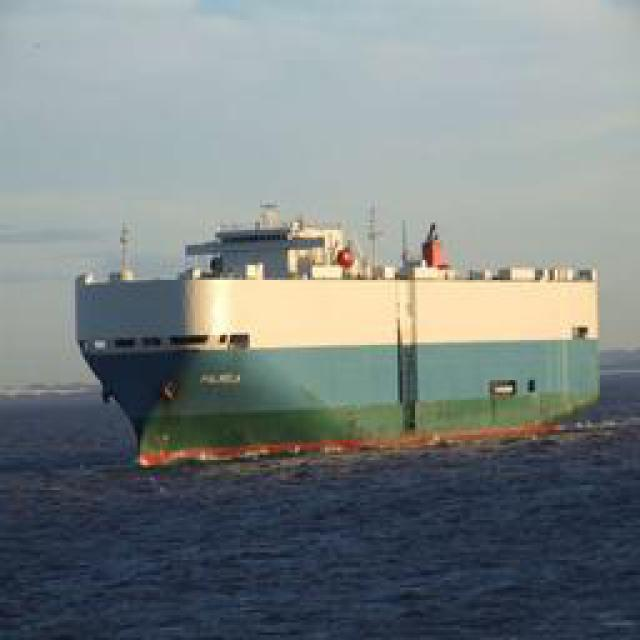Ship: (76, 202, 601, 452)
